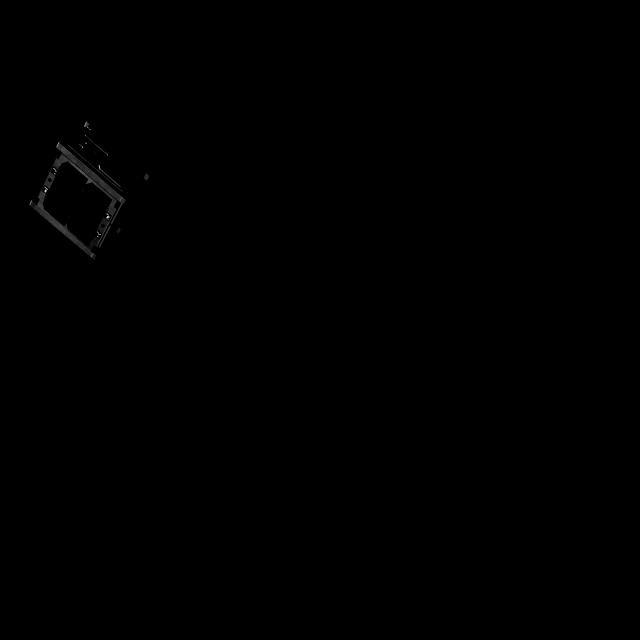satellite: (25, 109, 167, 263)
